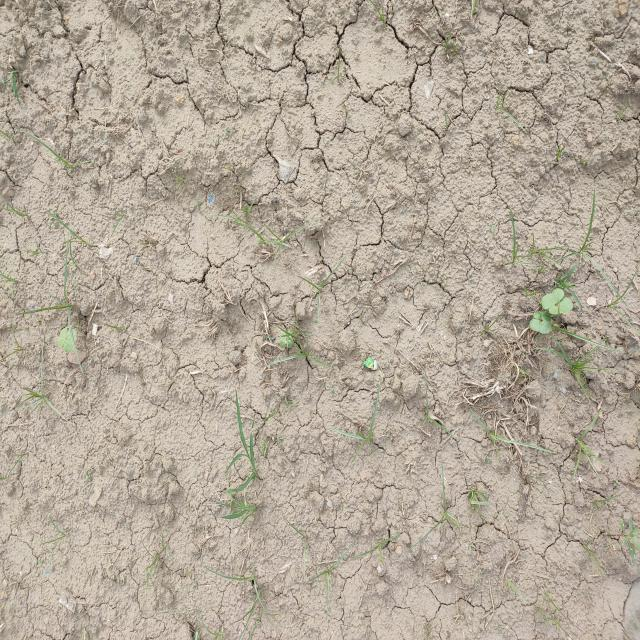seedling_s2: (541, 288, 564, 309), (548, 298, 573, 315), (529, 318, 551, 334), (64, 329, 77, 352), (57, 327, 67, 348), (533, 311, 552, 321), (287, 331, 293, 349), (280, 333, 287, 348)
